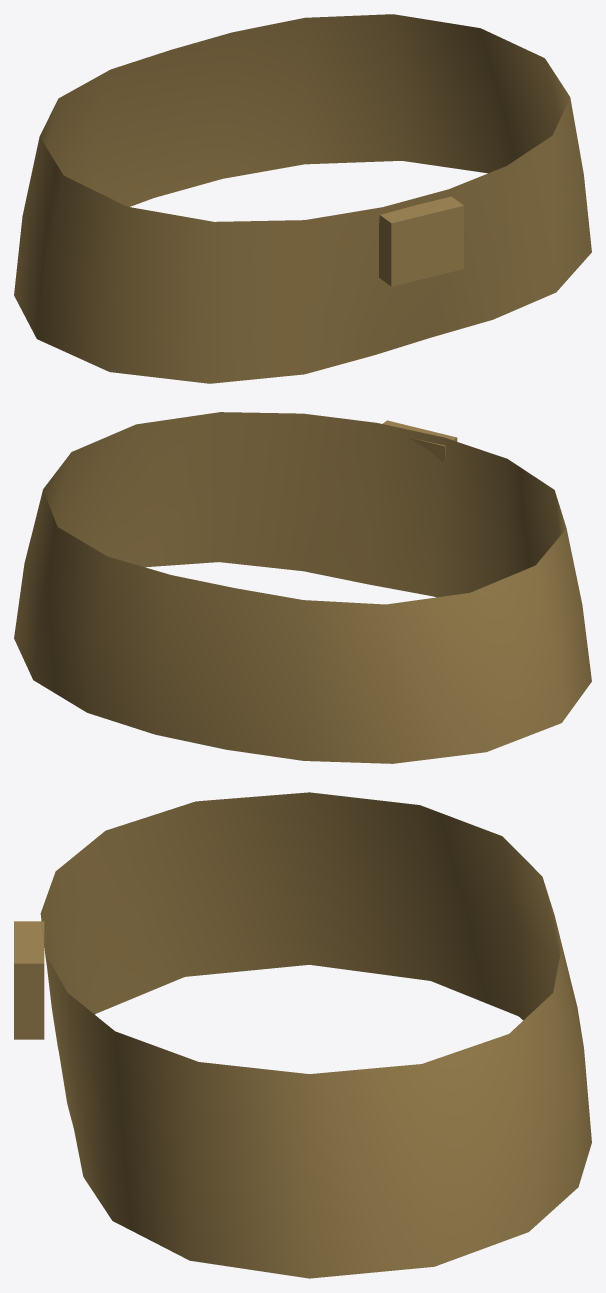
Rendered from turtle_armor_belt.glb.
The picture shows the model from 3 angles, top to bottom: view 1: azimuth 30°, elevation 25°; view 2: azimuth 150°, elevation 25°; view 3: azimuth 270°, elevation 25°; orthographic projection. The views are drawn at different scales.
Visible parts, largest first — view 1: turtle_armor_belt; view 2: turtle_armor_belt; view 3: turtle_armor_belt.
Boxes of the visible parts, left/top/right/bottom form: turtle_armor_belt: left=14, top=14, right=591, bottom=383; turtle_armor_belt: left=14, top=412, right=591, bottom=763; turtle_armor_belt: left=14, top=792, right=591, bottom=1278.
Bounding box in the file's own units: 0.4427 × 0.1238 × 0.3446.
